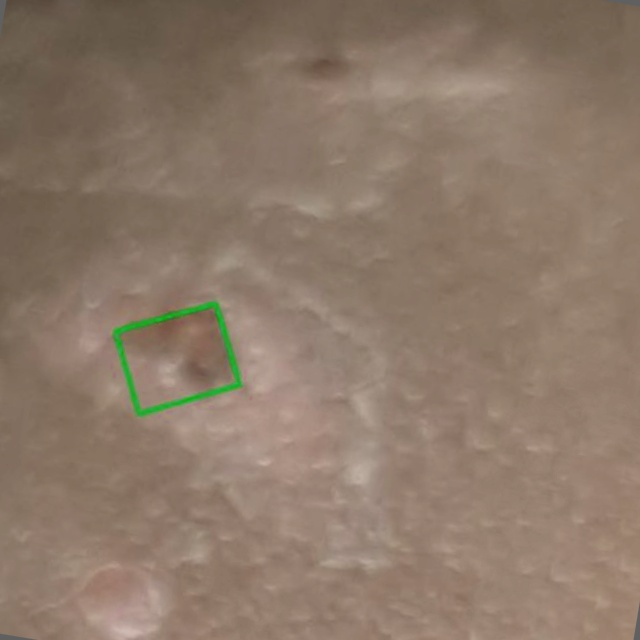Contact Dermatitis: (115, 302, 238, 413)
